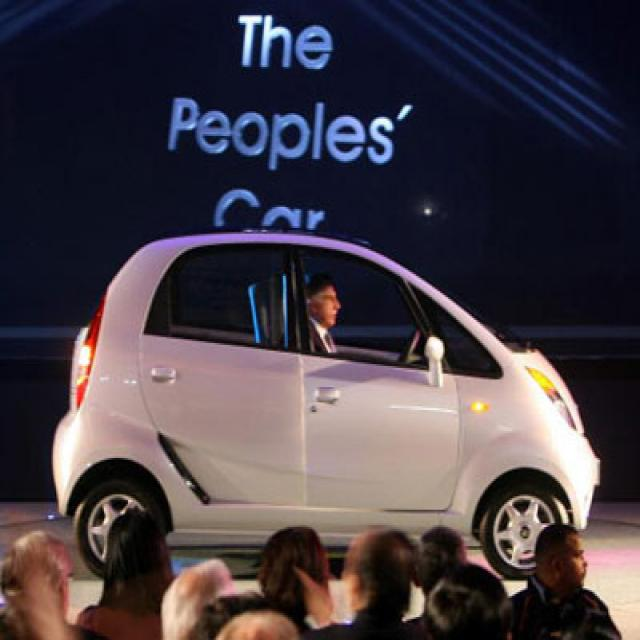Car: (52, 222, 609, 578)
